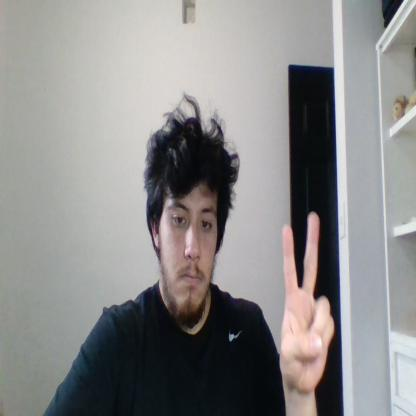V: (281, 211, 334, 393)
